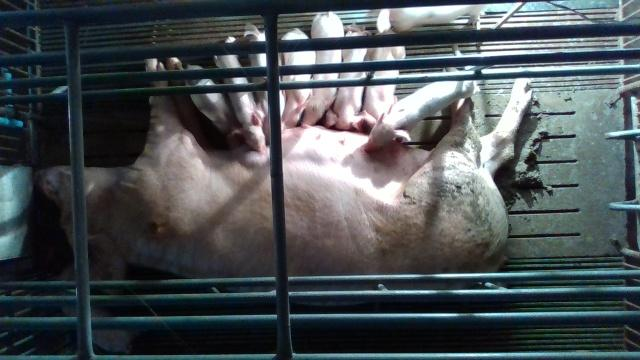piglet: (365, 80, 476, 152), (52, 286, 134, 353), (355, 27, 404, 134), (215, 55, 267, 155), (302, 13, 344, 128), (183, 65, 244, 144), (250, 33, 286, 145), (325, 31, 364, 131), (375, 3, 490, 34), (280, 28, 314, 129)
sow-sleep-lactate: (34, 60, 532, 307)
